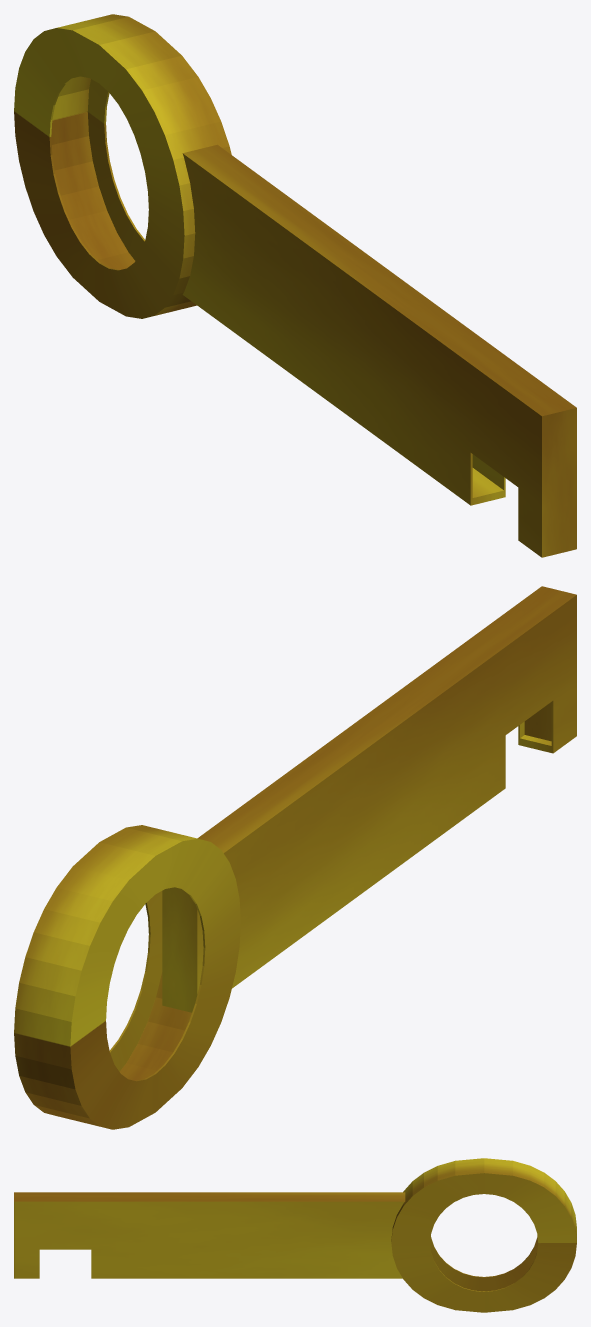
File: key.fbx
The picture shows the model from 3 angles, top to bottom: view 1: azimuth 30°, elevation 25°; view 2: azimuth 150°, elevation 25°; view 3: azimuth 270°, elevation 25°; orthographic projection. The views are drawn at different scales.
Parts seen in each view (by area): view 1: Cube; view 2: Cube; view 3: Cube.
Part boxes in pixels (x1,y1,x2,y2): Cube: (14, 14, 576, 557); Cube: (14, 586, 576, 1129); Cube: (14, 1158, 576, 1312).
Bounding box in the file's own units: 83.48 × 363 × 1325.
